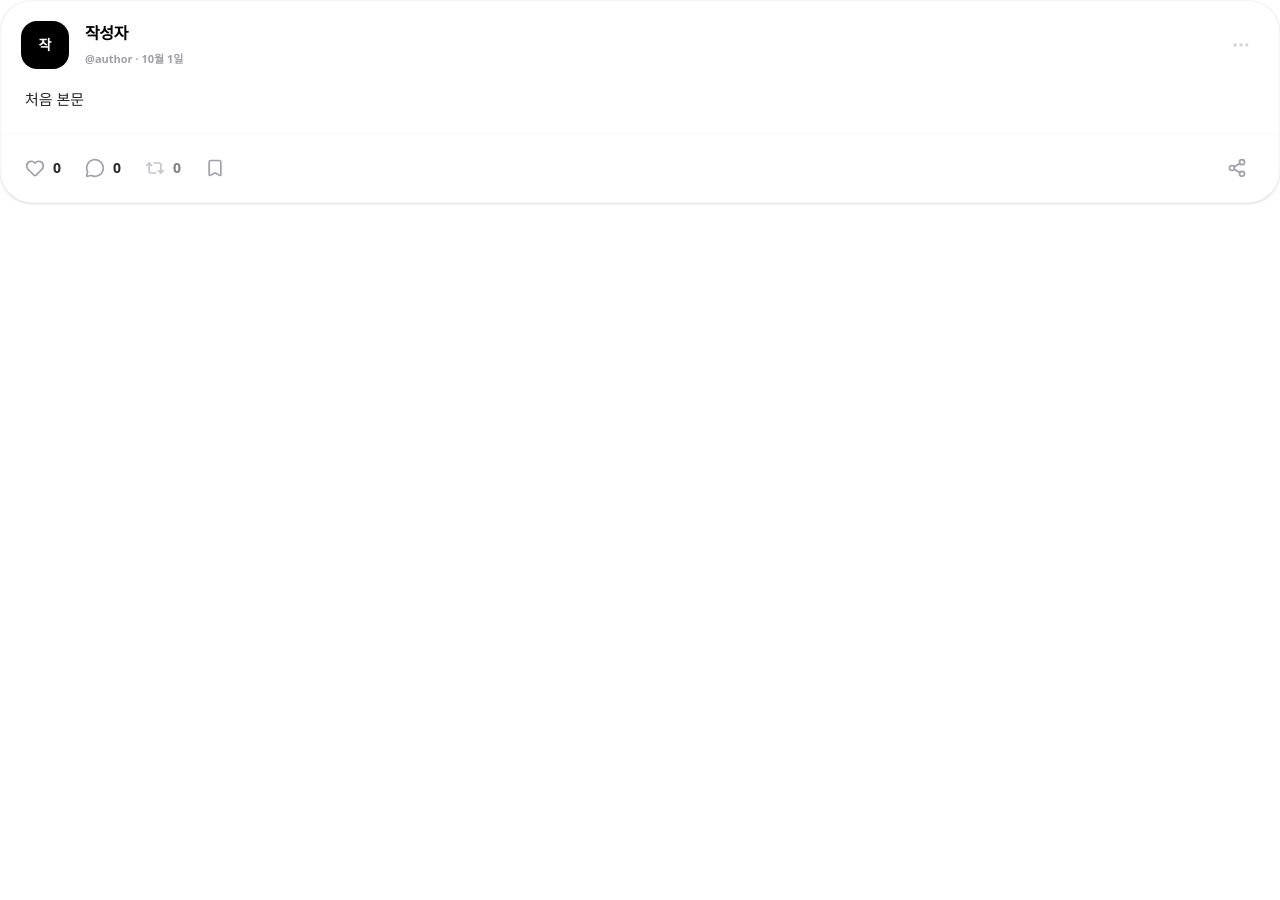
Scenario: 게시물 카드 수정 › 서버 거부는 모달 안에 한국어로 보여주고 다시 시도할 수 있다
The image size is (1280, 900).
Click the button named "게시물 메뉴".
click(1241, 45)  # box [1223, 27, 1259, 63]
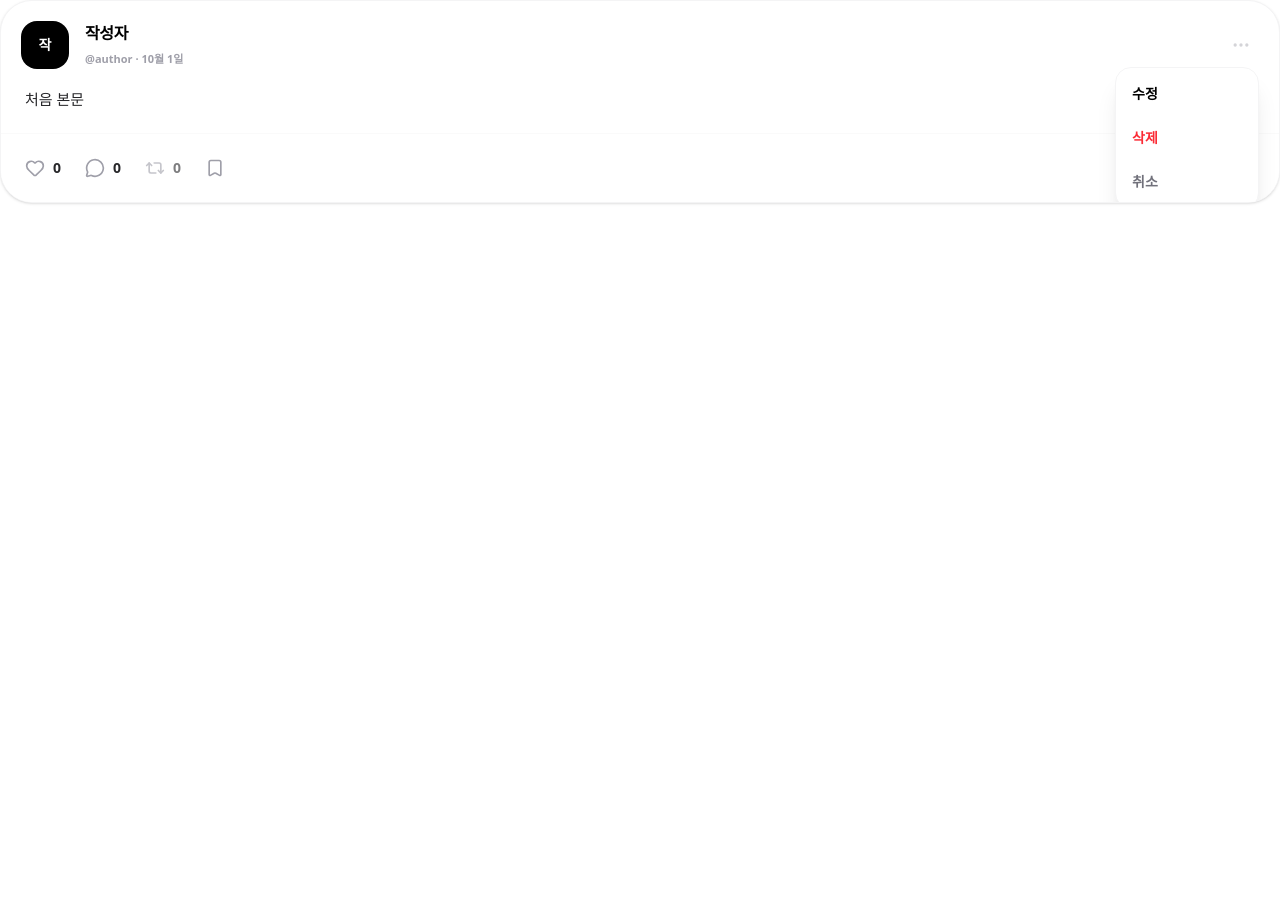
Click the button "수정".
click(1187, 94)  # box [1116, 72, 1258, 116]
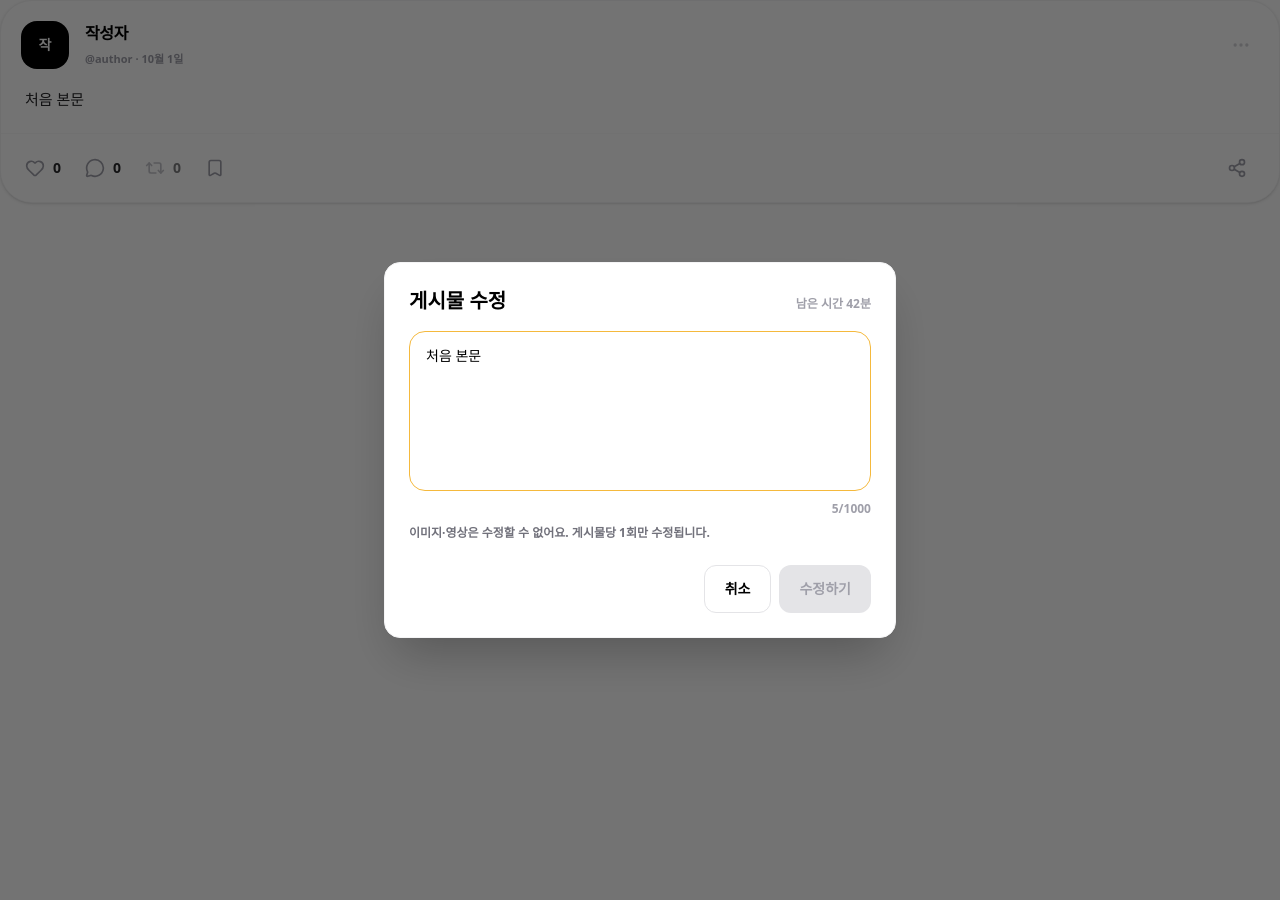
Replace the text in the text box named "게시물 본문" with "고친 본문" at (640, 411), box [409, 331, 871, 491]
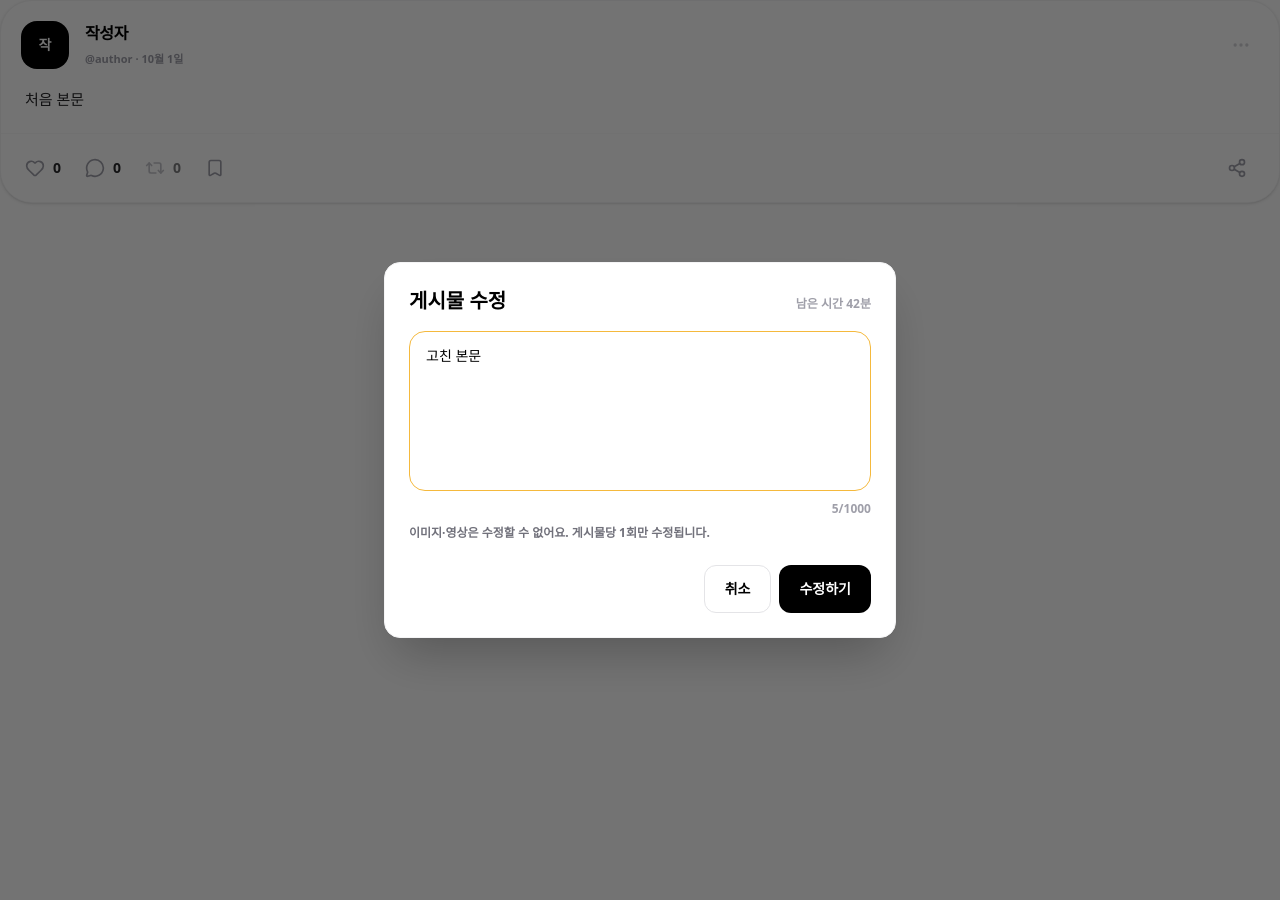
Click the button "수정하기".
click(825, 589)  # box [780, 565, 871, 613]
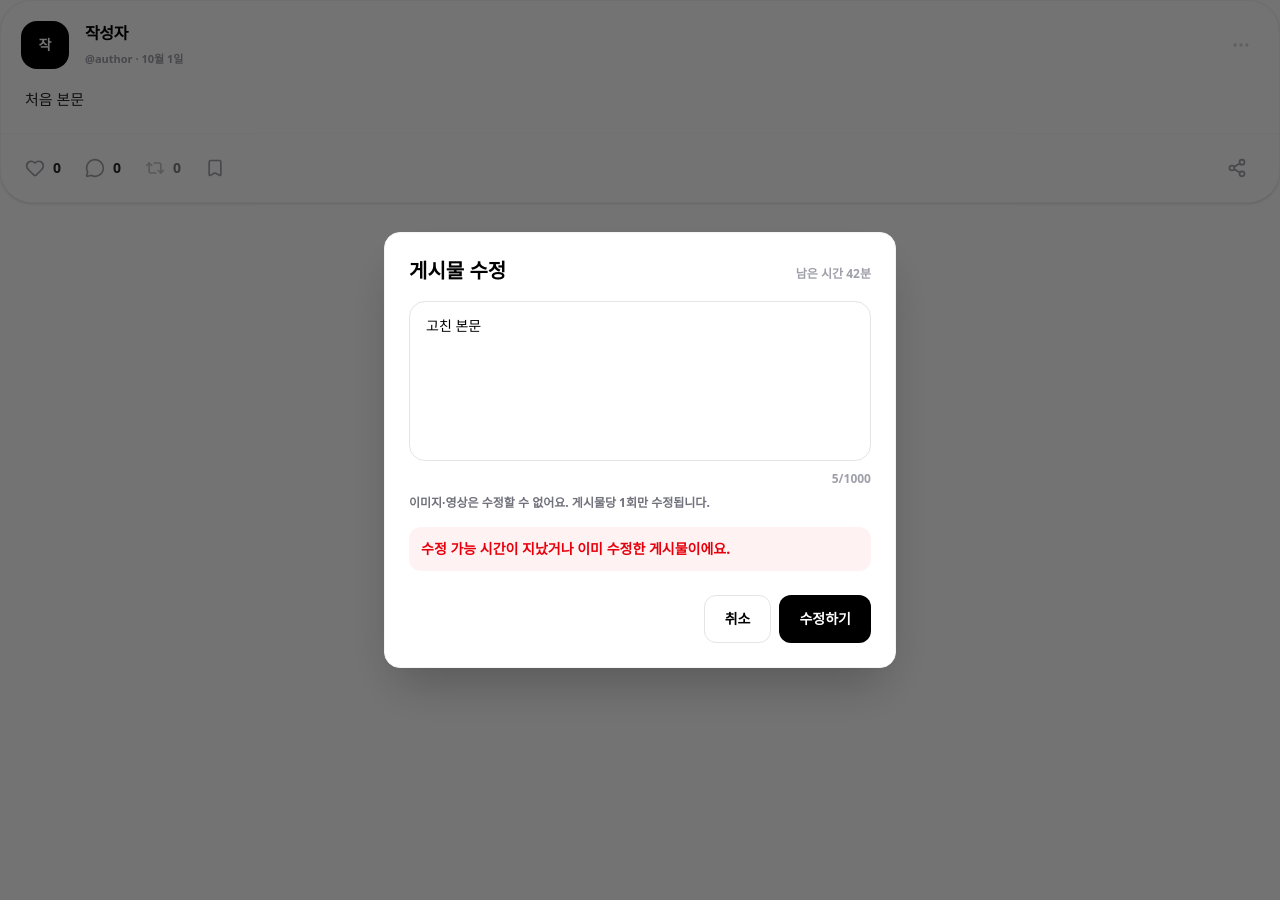
Result: the button "수정하기" is enabled at [780, 595, 871, 643]
Result: the message reads "수정 가능 시간이 지났거나 이미 수정한 게시물이에요." at [421, 539, 730, 558]
